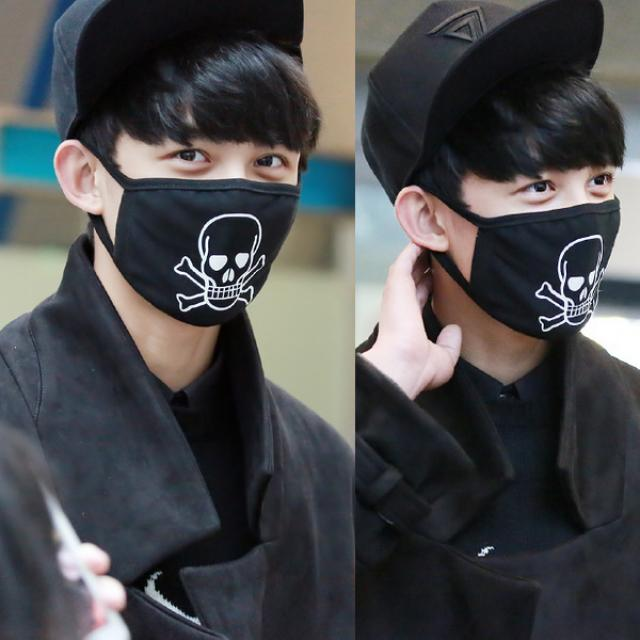mask: (108, 74, 302, 325), (450, 103, 617, 336)
